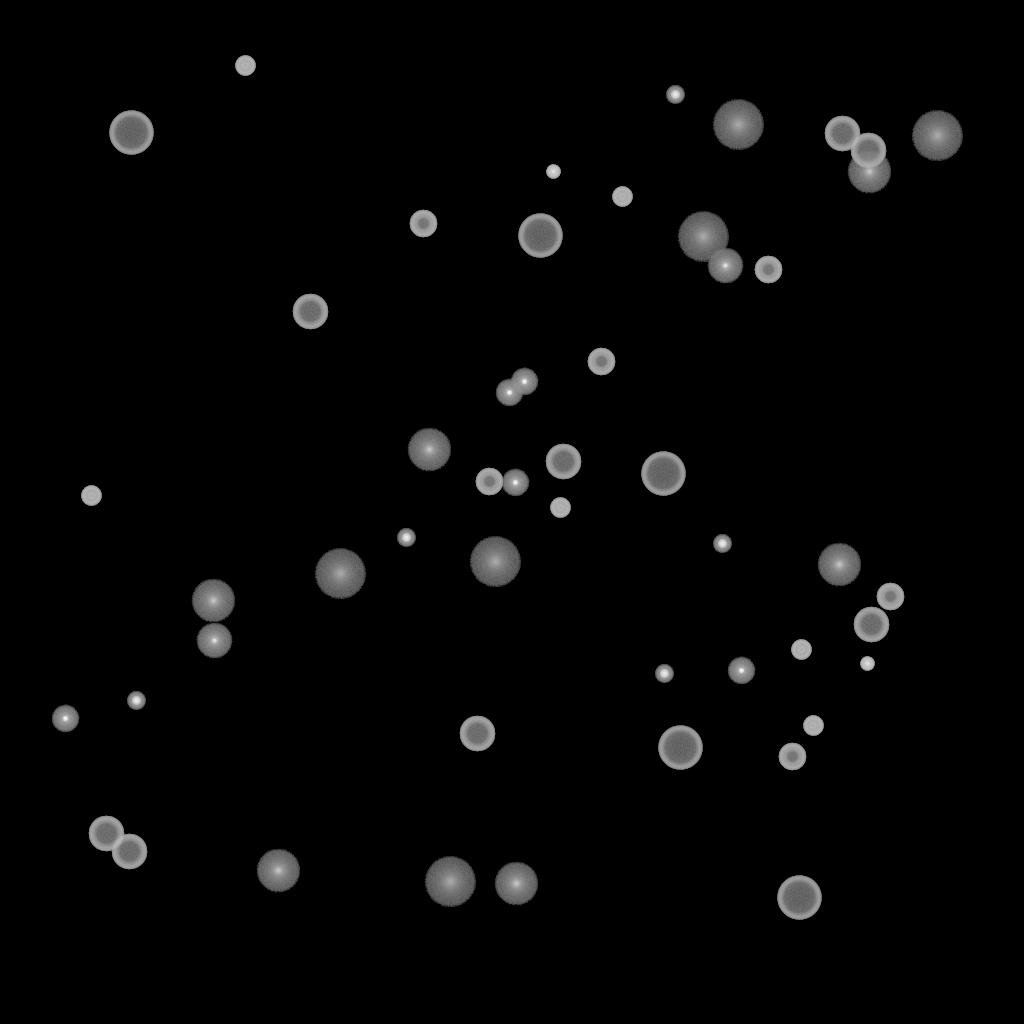depth:-10: (727, 657, 755, 685), (51, 705, 79, 733), (510, 368, 538, 396), (495, 379, 523, 407), (501, 469, 529, 497)
depth:-20: (666, 86, 684, 104), (127, 692, 145, 710), (397, 529, 415, 547), (655, 665, 673, 683), (713, 535, 731, 553)
depth:-30: (546, 165, 560, 179), (860, 657, 874, 671)
depth:-40: (803, 716, 823, 736), (235, 56, 255, 76), (550, 498, 570, 518), (81, 486, 101, 506), (791, 640, 811, 660), (612, 187, 632, 207)
depth:-50: (475, 468, 503, 496), (587, 348, 615, 376), (778, 743, 806, 771), (876, 583, 904, 611), (754, 256, 782, 284), (409, 210, 437, 238)
depth:-60: (292, 294, 328, 330), (850, 133, 886, 169), (111, 834, 147, 870), (824, 116, 860, 152), (88, 816, 124, 852), (853, 607, 889, 643), (545, 444, 581, 480), (459, 716, 495, 752)
depth:-70: (658, 726, 702, 770), (518, 214, 562, 258), (641, 452, 685, 496), (109, 111, 153, 155), (777, 876, 821, 920)
depth:0: (196, 623, 232, 659), (707, 248, 743, 284)
depth:10: (407, 428, 451, 472), (191, 579, 235, 623), (256, 849, 300, 893), (847, 150, 891, 194), (817, 543, 861, 587), (494, 862, 538, 906)
depth:20: (677, 212, 729, 262), (314, 549, 366, 599), (712, 100, 764, 150), (469, 537, 521, 587), (424, 857, 476, 907), (911, 111, 963, 161)
